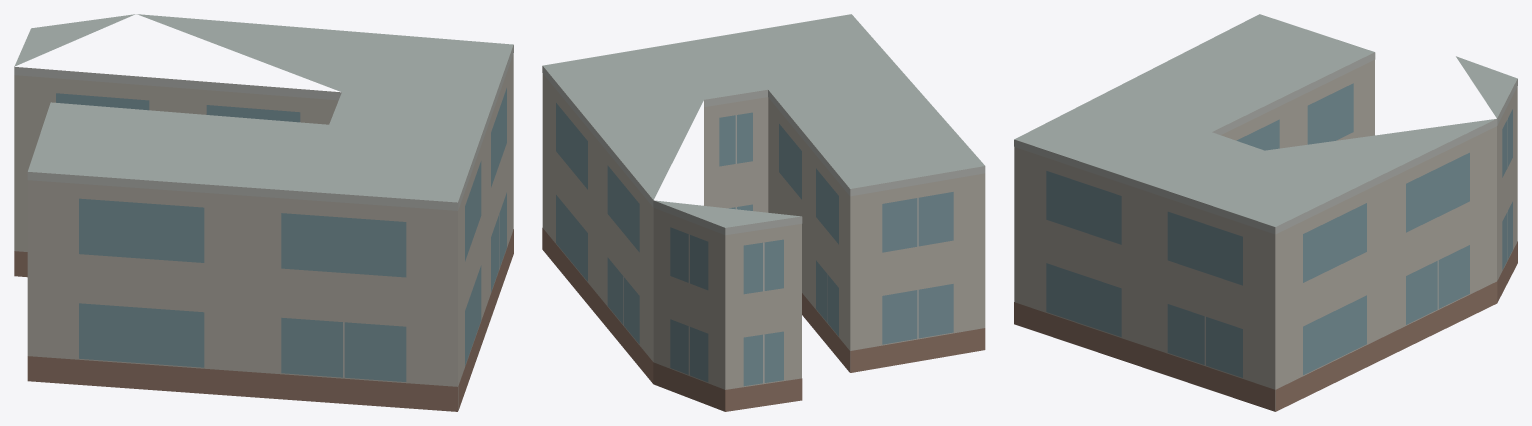
The model's file is survey-upis-32754412.glb.
3 views of the same model, side by side, from view 1: azimuth 30°, elevation 25°; view 2: azimuth 150°, elevation 25°; view 3: azimuth 270°, elevation 25° (orthographic). The views are drawn at different scales.
Parts seen in each view (by area): view 1: survey-upis-32754412.tmp; view 2: survey-upis-32754412.tmp; view 3: survey-upis-32754412.tmp.
Boxes of the visible parts, x1,y1,x2,y2 form: survey-upis-32754412.tmp: (14,14,513,411); survey-upis-32754412.tmp: (542,14,985,411); survey-upis-32754412.tmp: (1014,14,1517,411).
Size of the model in its own units: 15.1 by 6.1 by 15.08.
